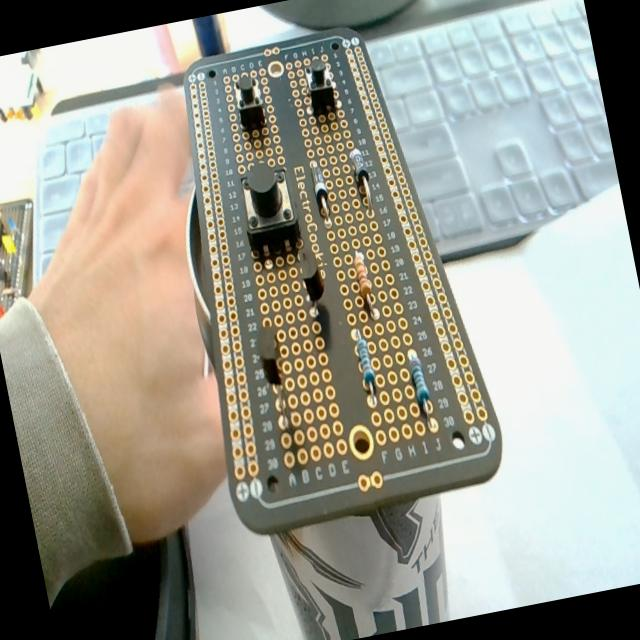diode: (348, 146, 377, 213), (308, 158, 333, 221)
resistor: (404, 348, 436, 422), (351, 245, 381, 322), (352, 328, 381, 406)
switch: (234, 157, 306, 262), (302, 54, 338, 118), (231, 71, 267, 132)
transistor: (253, 327, 296, 432), (296, 247, 332, 325)
